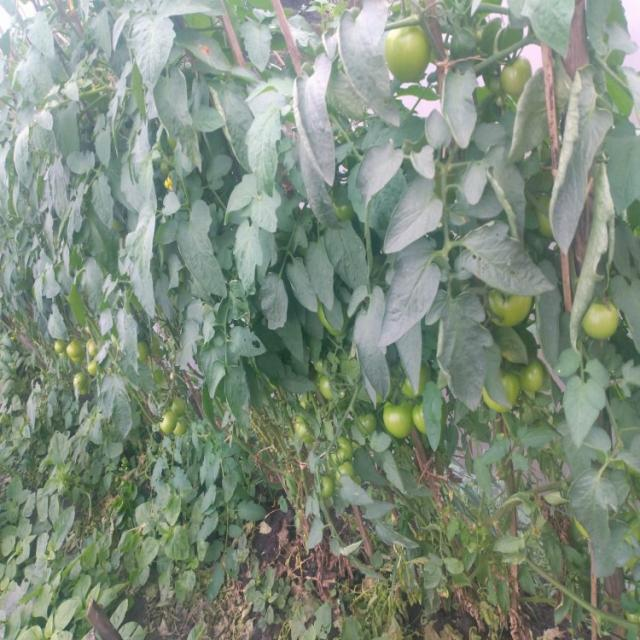tomato: (384, 24, 430, 85), (583, 299, 623, 344), (487, 291, 534, 327), (500, 58, 534, 94), (160, 398, 191, 435), (485, 376, 517, 411), (523, 363, 553, 396), (404, 370, 435, 399), (388, 403, 410, 439), (320, 376, 338, 409), (416, 402, 432, 433), (358, 412, 378, 436), (316, 474, 333, 500), (336, 441, 353, 463), (70, 340, 85, 364), (339, 464, 357, 481), (89, 361, 105, 378), (89, 337, 102, 356), (74, 371, 86, 390), (55, 339, 65, 353)
